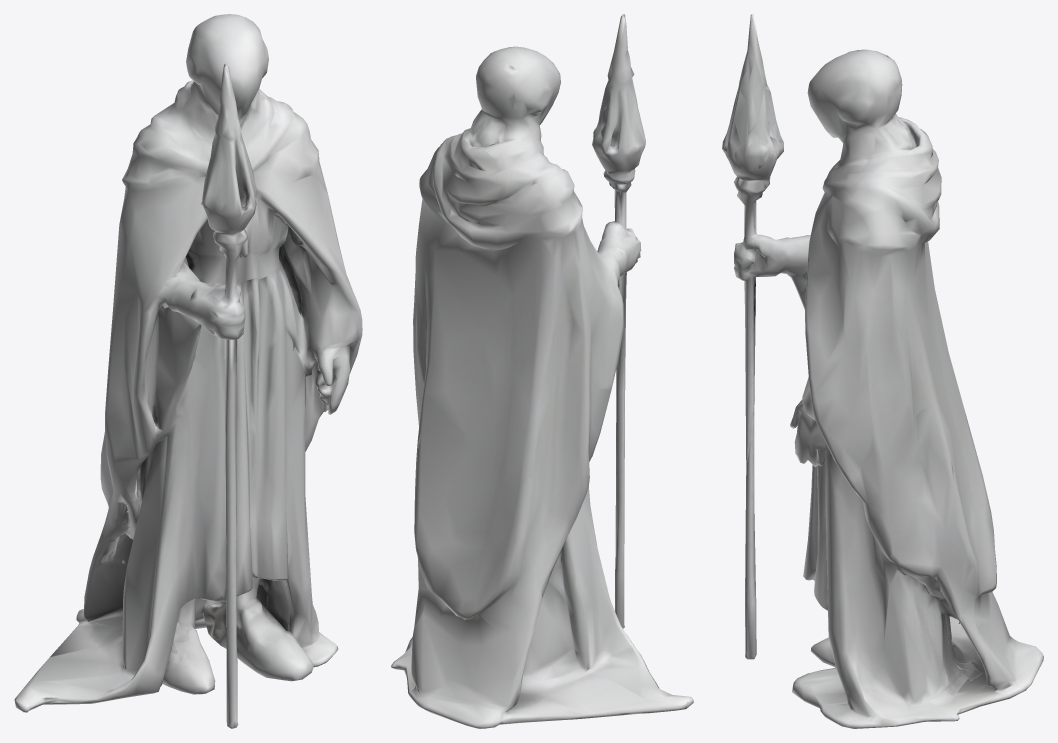
The model's file is Bishop.fbx.
3 renders of one model, left to right at view 1: azimuth 30°, elevation 25°; view 2: azimuth 150°, elevation 25°; view 3: azimuth 270°, elevation 25°, orthographic. The views are drawn at different scales.
Visible parts, largest first — view 1: Mesh_0; view 2: Mesh_0; view 3: Mesh_0.
Part boxes in pixels (x1,y1,x2,y2): Mesh_0: (14,14,362,728); Mesh_0: (391,14,693,728); Mesh_0: (722,14,1043,728).
Size of the model in its own units: 98.14 by 200 by 90.89.
1 material, 1 textured.
